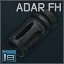ADAR 2-15.56x45 flash hider: (0, 0, 64, 64)
